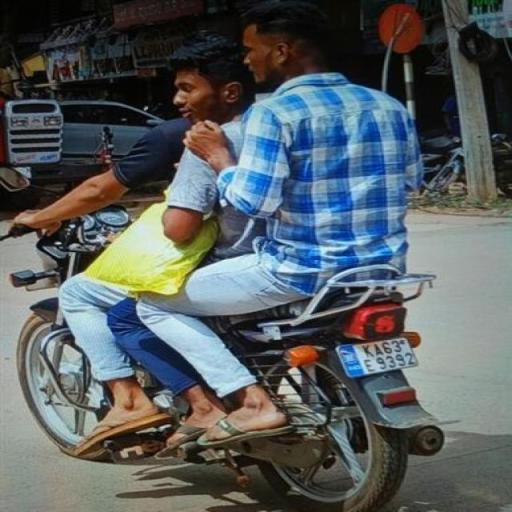tripple riding: (2, 10, 438, 300)
